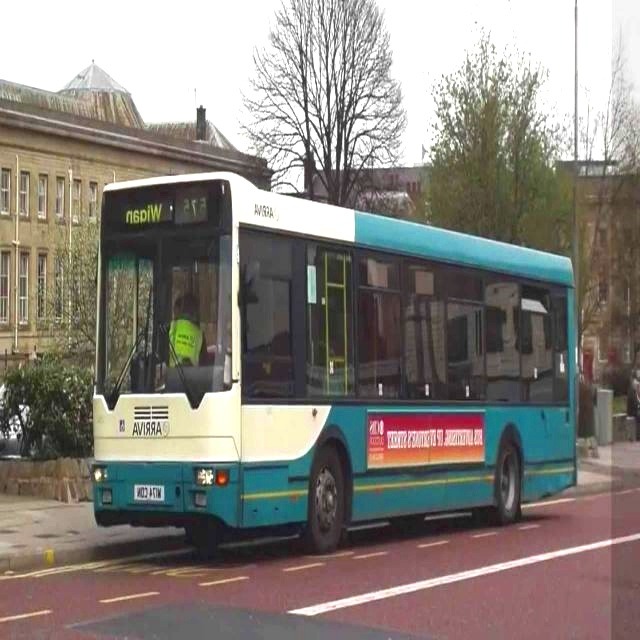bus: (59, 134, 606, 572)
